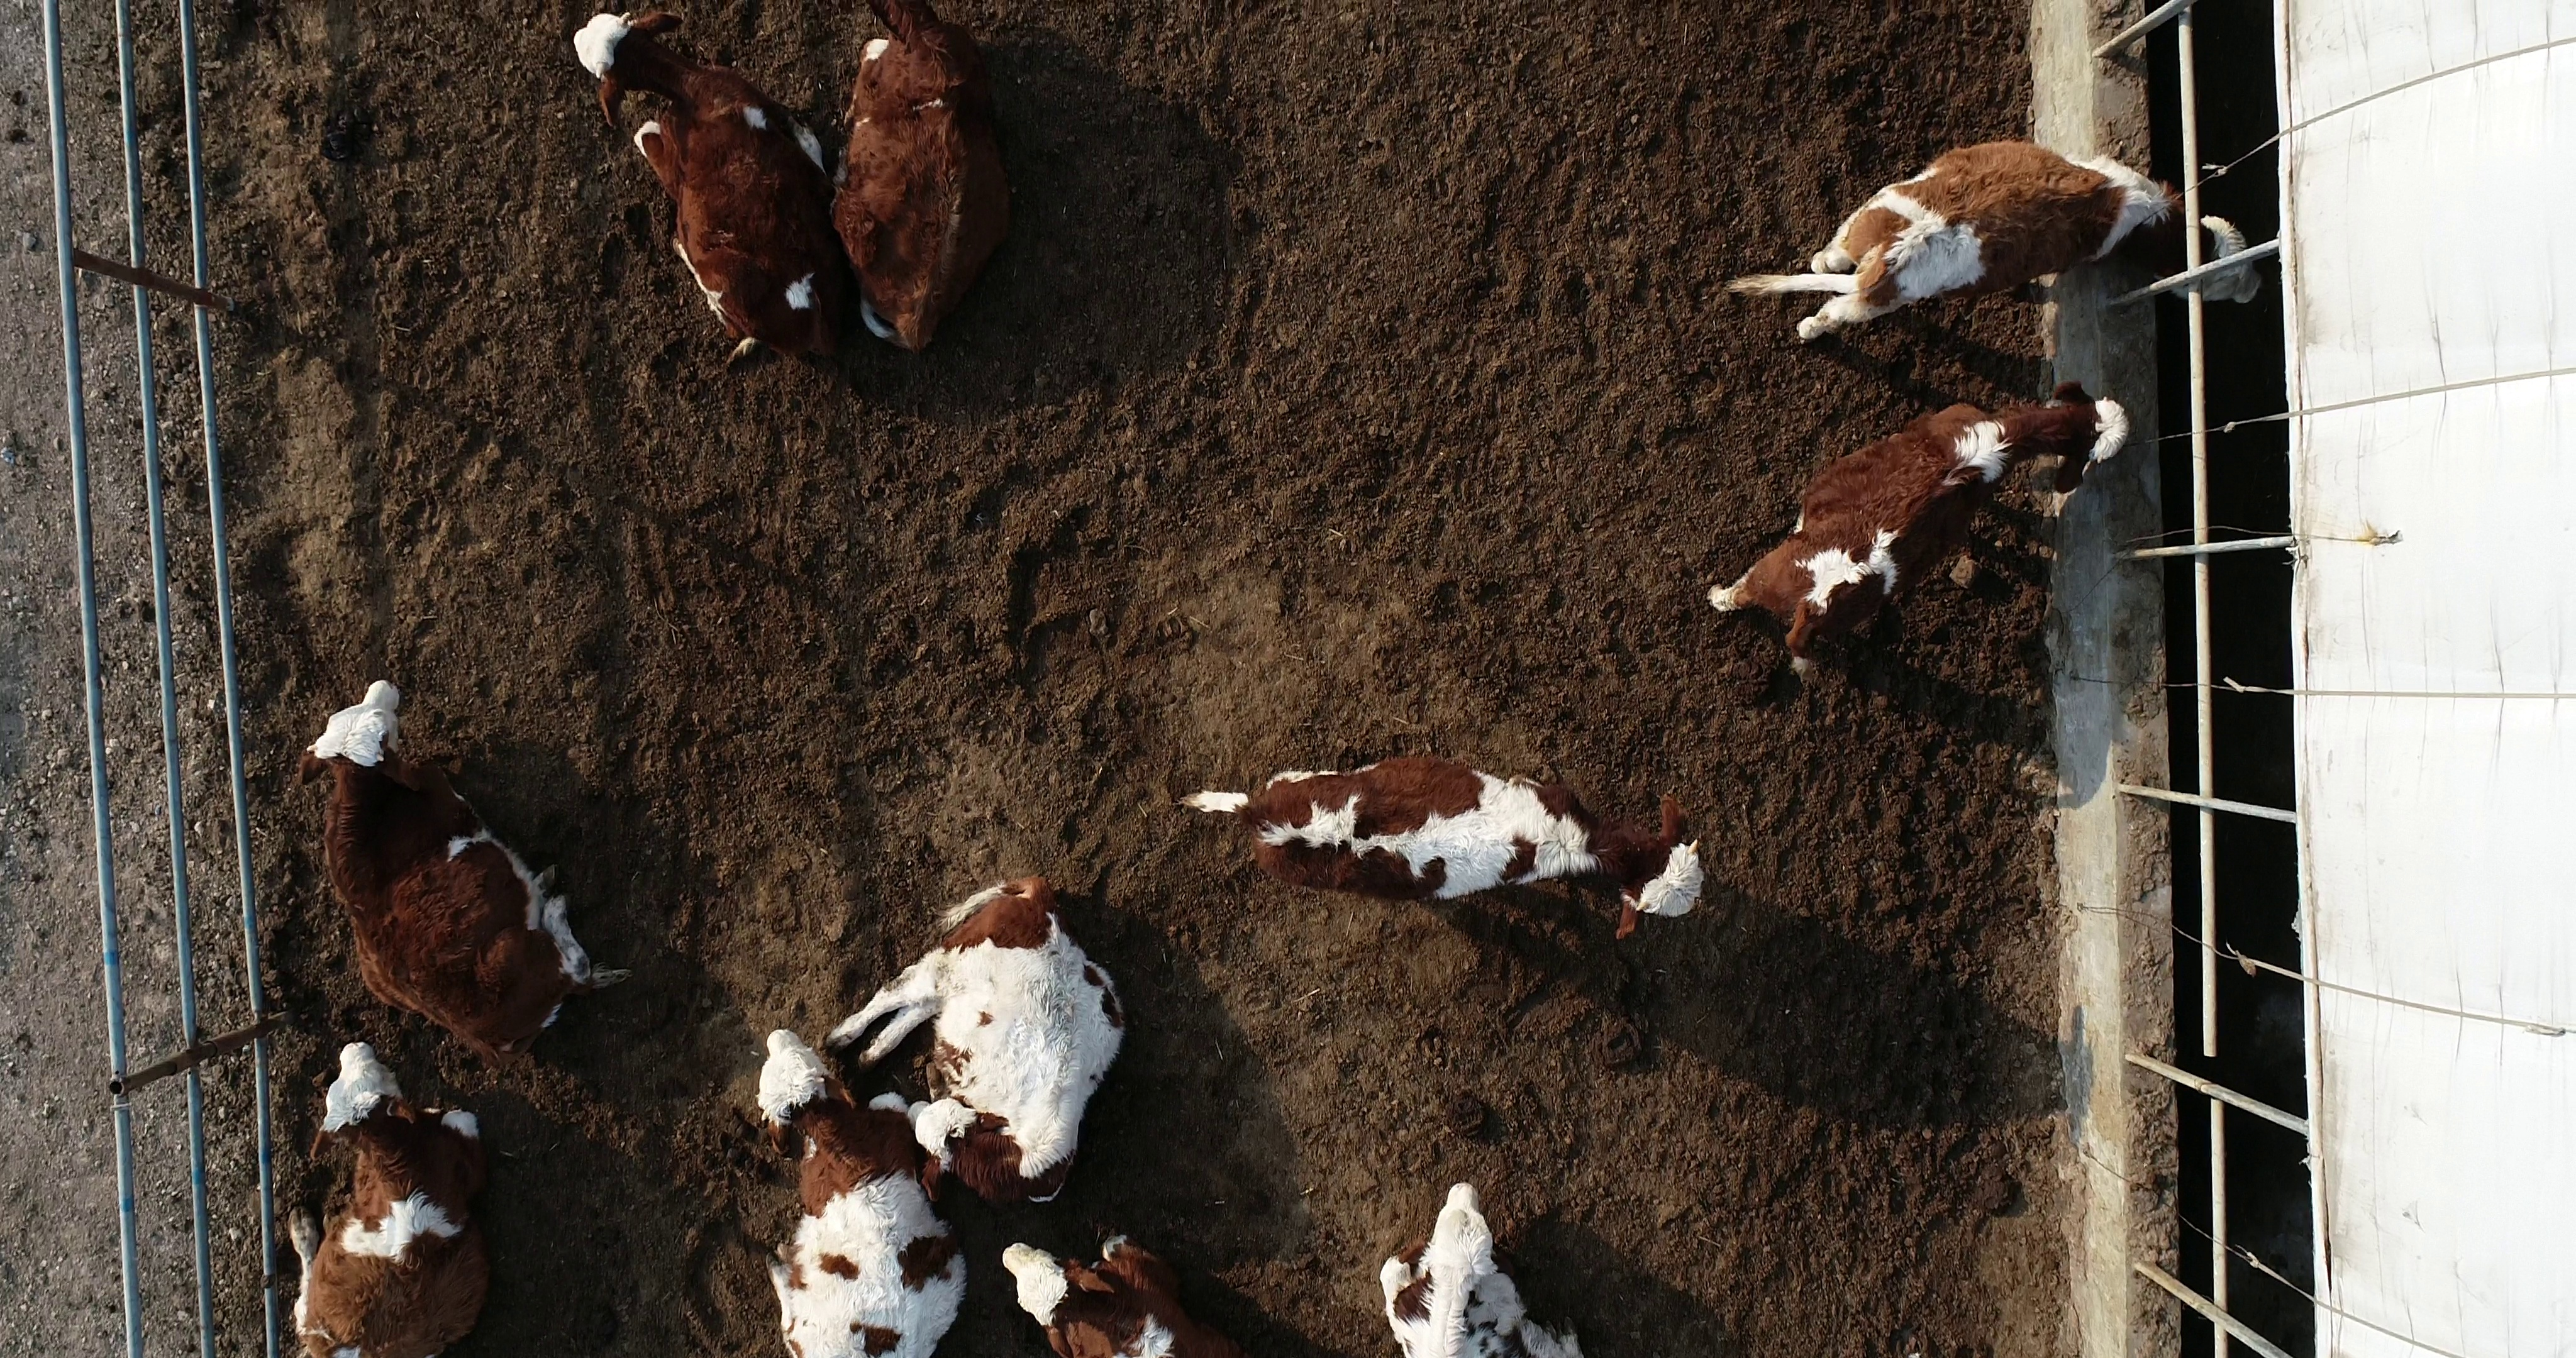cattle: (1695, 377, 2135, 692), (288, 678, 603, 1068), (1722, 136, 2268, 344), (1174, 746, 1707, 946)
